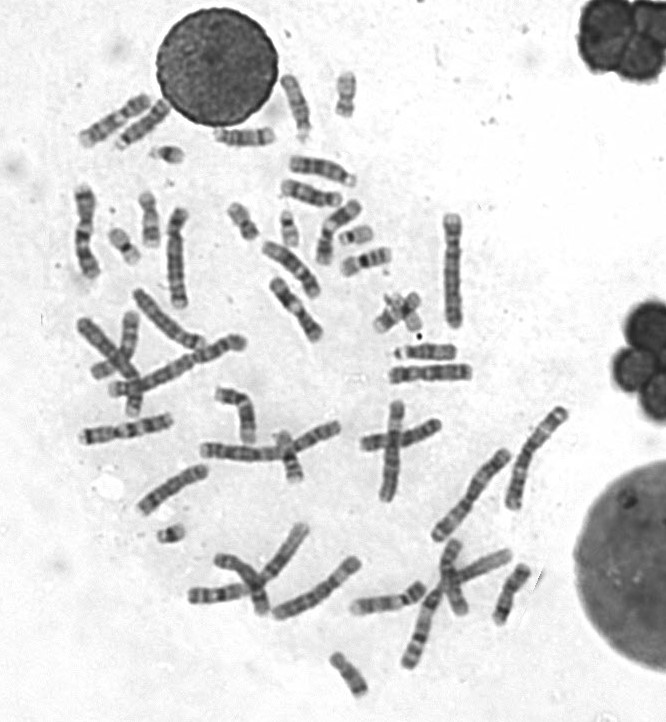chromosomes: (394, 546, 515, 678), (173, 518, 312, 617), (102, 329, 254, 404), (494, 399, 574, 516), (63, 314, 148, 423), (425, 447, 513, 546), (191, 417, 348, 464), (275, 549, 370, 623), (62, 83, 156, 148), (120, 460, 211, 522), (127, 286, 212, 352), (260, 272, 328, 348), (210, 545, 277, 618), (70, 406, 176, 451), (259, 237, 327, 302), (86, 308, 144, 381), (307, 198, 366, 267), (110, 93, 178, 152), (372, 397, 409, 504), (165, 201, 200, 313), (485, 560, 533, 635), (67, 185, 102, 286), (356, 415, 446, 453), (278, 71, 321, 147), (343, 581, 428, 619), (286, 149, 359, 192), (326, 649, 379, 708), (213, 381, 261, 446), (441, 211, 466, 331), (368, 289, 425, 337), (381, 363, 480, 389), (278, 176, 345, 213), (335, 242, 396, 280), (441, 535, 469, 617), (105, 222, 146, 272), (134, 189, 167, 251), (272, 430, 308, 485), (222, 199, 264, 246), (209, 125, 280, 151), (384, 296, 425, 335), (337, 59, 360, 125), (389, 342, 460, 363), (144, 522, 191, 551), (277, 202, 304, 251), (143, 143, 191, 170), (337, 222, 378, 246)
